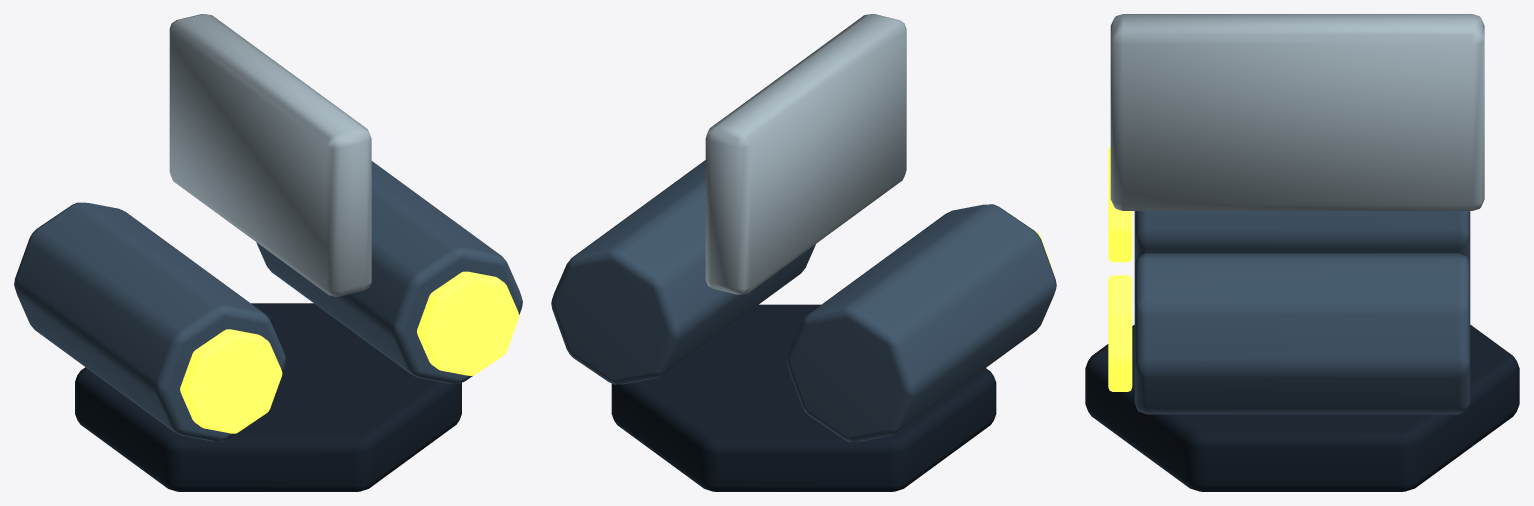
File: enemy_role_accelerator.fbx
The picture shows the model from 3 angles, left to right: view 1: azimuth 30°, elevation 25°; view 2: azimuth 150°, elevation 25°; view 3: azimuth 270°, elevation 25°; orthographic projection. The views are drawn at different scales.
Parts seen in each view (by area): view 1: enemy_role_accelerator_Geometry; view 2: enemy_role_accelerator_Geometry; view 3: enemy_role_accelerator_Geometry.
Boxes of the visible parts, x1,y1,x2,y2 form: enemy_role_accelerator_Geometry: [14, 14, 522, 491]; enemy_role_accelerator_Geometry: [551, 14, 1056, 491]; enemy_role_accelerator_Geometry: [1085, 14, 1519, 491].
Bounding box in the file's own units: 0.4946 × 0.455 × 0.4527.
